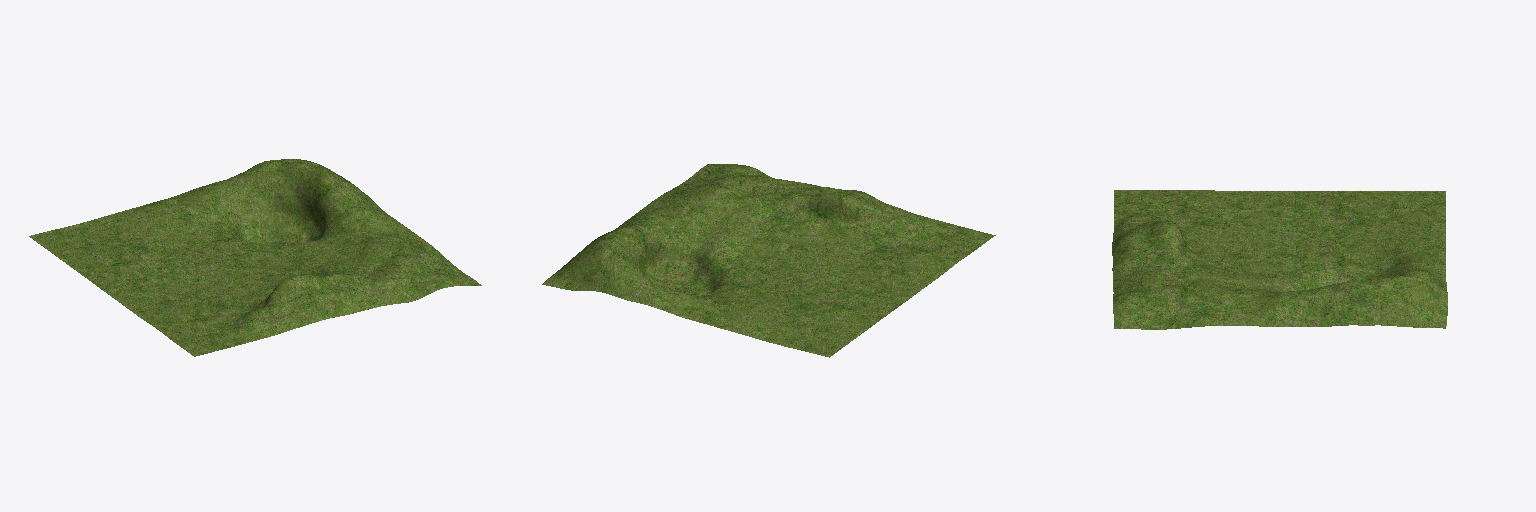
3 views of the same model, side by side, from view 1: azimuth 30°, elevation 25°; view 2: azimuth 150°, elevation 25°; view 3: azimuth 270°, elevation 25° (orthographic).
Parts seen in each view (by area): view 1: Grid_Grid.007; view 2: Grid_Grid.007; view 3: Grid_Grid.007.
Part boxes in pixels (x1,y1,x2,y2): Grid_Grid.007: (29, 159, 481, 356); Grid_Grid.007: (542, 164, 995, 357); Grid_Grid.007: (1112, 190, 1447, 329).
Bounding box in the file's own units: 201 × 35.72 × 203.
Materials: 1 (1 with a texture image).